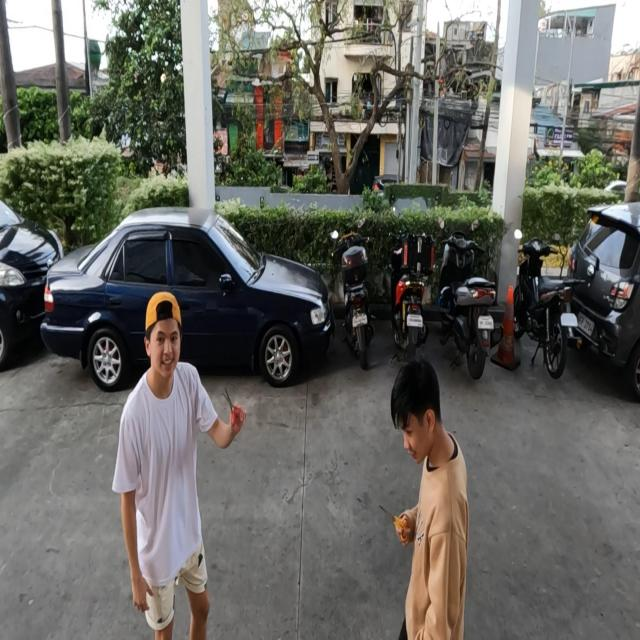scissor: (379, 503, 409, 544), (222, 386, 246, 432)
